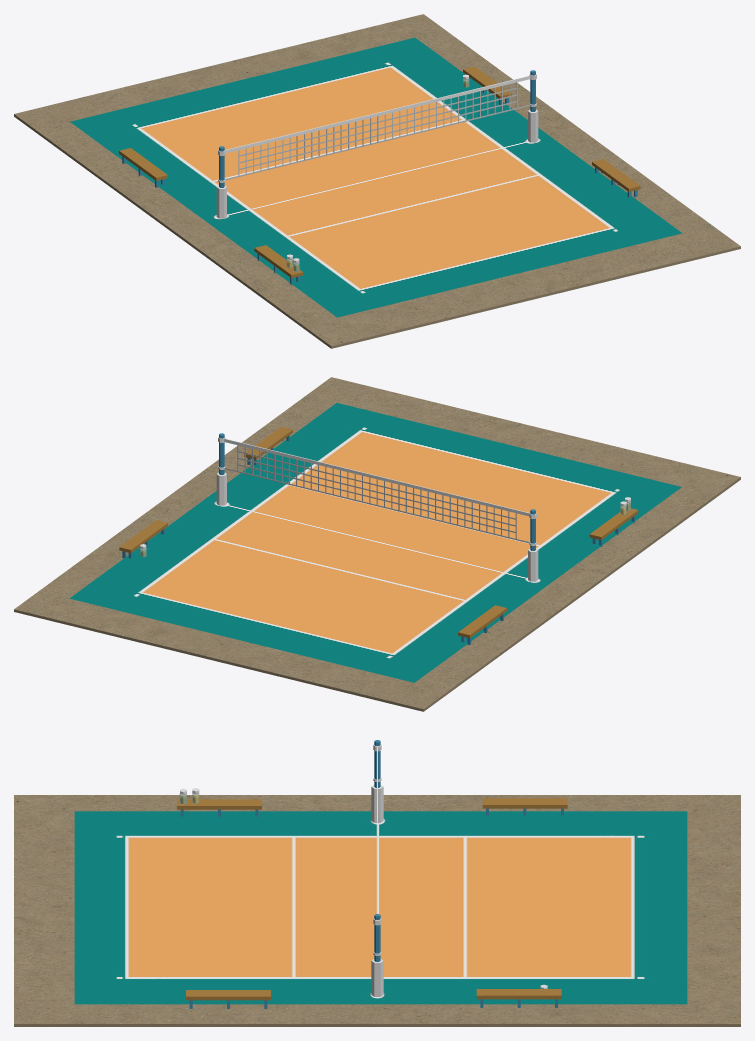
Rendered from voleyball.glb.
The picture shows the model from 3 angles, top to bottom: view 1: azimuth 30°, elevation 25°; view 2: azimuth 150°, elevation 25°; view 3: azimuth 270°, elevation 25°; orthographic projection. The views are drawn at different scales.
Visible parts, largest first — view 1: Plane, Box191, Plane089, Cylinder158, Box199, Box198, Box200, Box197; view 2: Plane, Box191, Plane089, Cylinder158, Box199, Box197, Box200, Box198; view 3: Plane, Box191, Cylinder158, Box197, Box198, Box199, Box200.
Boxes of the visible parts, <box> form: Plane: <box>70,37,681,317</box>; Box191: <box>14,14,740,348</box>; Plane089: <box>225,75,530,180</box>; Cylinder158: <box>216,70,538,218</box>; Box199: <box>119,148,167,187</box>; Box198: <box>592,159,640,197</box>; Box200: <box>254,245,303,284</box>; Box197: <box>463,66,511,104</box>; Plane: <box>69,403,681,682</box>; Box191: <box>14,377,740,711</box>; Plane089: <box>224,438,529,543</box>; Cylinder158: <box>216,433,538,581</box>; Box199: <box>458,605,506,644</box>; Box197: <box>119,520,167,558</box>; Box200: <box>589,508,638,546</box>; Box198: <box>244,426,292,464</box>; Plane: <box>74,811,687,1004</box>; Box191: <box>14,795,740,1026</box>; Cylinder158: <box>371,740,383,996</box>; Box197: <box>476,989,561,1007</box>; Box198: <box>186,990,270,1008</box>; Box199: <box>482,798,567,815</box>; Box200: <box>177,799,261,816</box>.
Size of the model in its own units: 0.5972 by 0.1023 by 0.8014.
9 materials, 2 textured.
